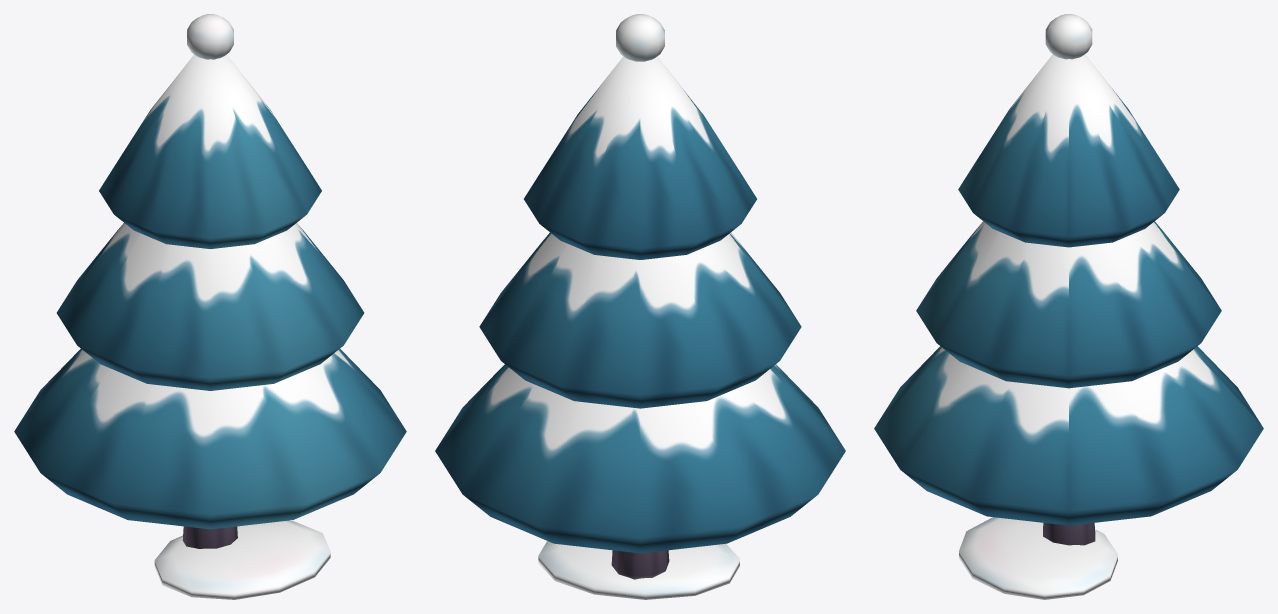
File: frostpine.glb
3 views of the same model, side by side, from view 1: azimuth 30°, elevation 25°; view 2: azimuth 150°, elevation 25°; view 3: azimuth 270°, elevation 25° (orthographic). The views are drawn at different scales.
Parts seen in each view (by area): view 1: tree; view 2: tree; view 3: tree.
Part boxes in pixels (bbox=[...]): tree: bbox=[14, 14, 406, 599]; tree: bbox=[435, 14, 845, 599]; tree: bbox=[874, 14, 1263, 599].
Size of the model in its own units: 2.04 by 3.16 by 2.04.
Materials: 1 (1 with a texture image).
